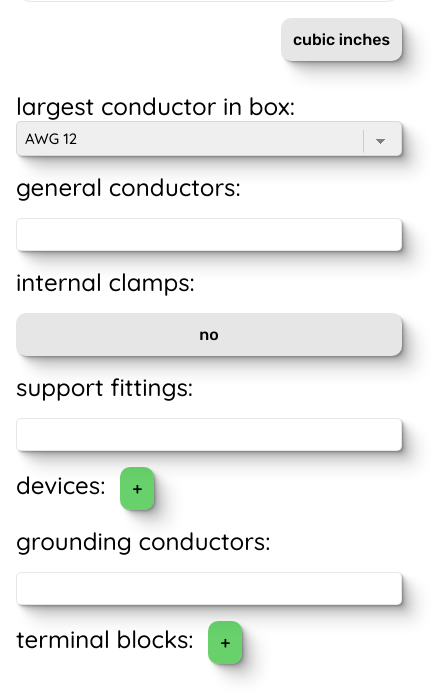
Scenario: groundingConductorsInput › should allow only integer numbers
(page scrolled)
Type "10.5" into the number field with id "grounding-conductors" at coordinates (209, 589), box 16,572 -> 402,605
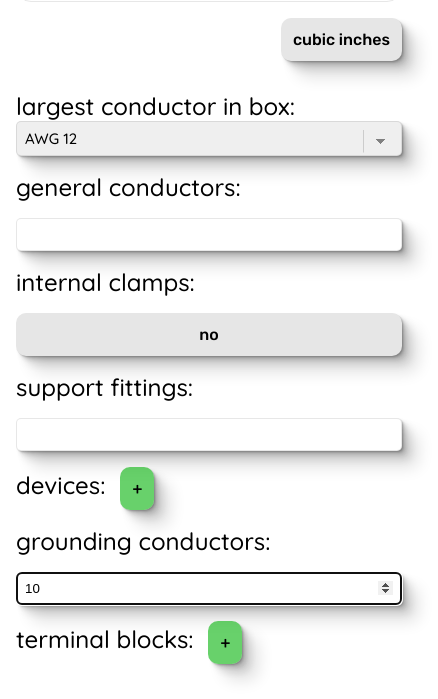
Check: the number field with id "grounding-conductors" holds "10", box 16,572 -> 402,605
